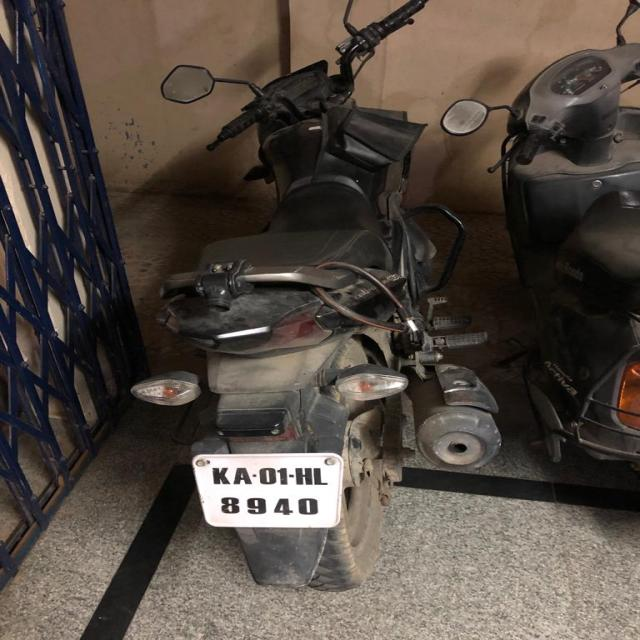number plate: (190, 451, 344, 528)
